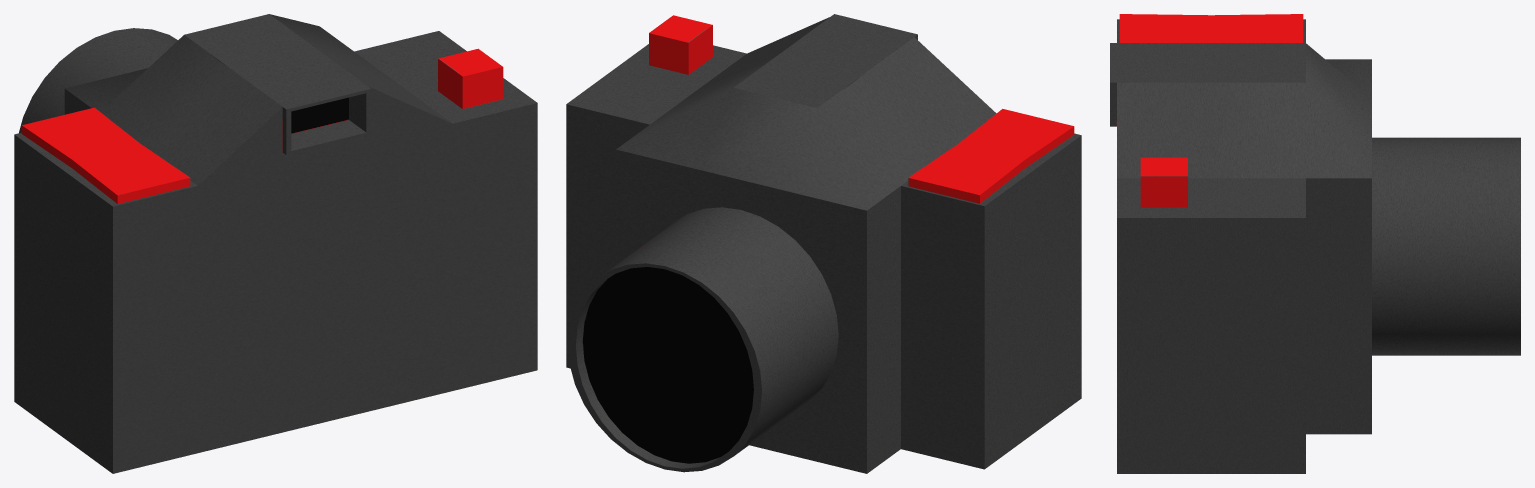
The model's file is camera.fbx.
The picture shows the model from 3 angles, left to right: view 1: azimuth 30°, elevation 25°; view 2: azimuth 150°, elevation 25°; view 3: azimuth 270°, elevation 25°; orthographic projection. The views are drawn at different scales.
Visible parts, largest first — view 1: fbx; view 2: fbx; view 3: fbx.
Boxes of the visible parts, x1,y1,x2,y2 form: fbx: [14, 14, 537, 473]; fbx: [566, 14, 1081, 473]; fbx: [1110, 14, 1520, 473].
Size of the model in its own units: 0.2466 by 0.1806 by 0.2157.
Materials: 1 (1 with a texture image).
